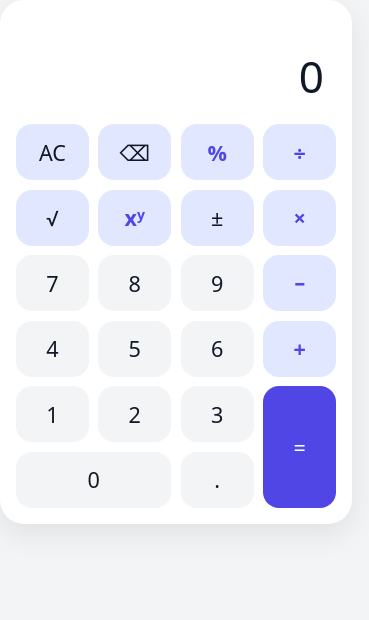
Test: Calculator › explains network failures
The width and height of the screenshot is (369, 620).
Click the button "1" at coordinates (52, 414), box 16,386 -> 89,442
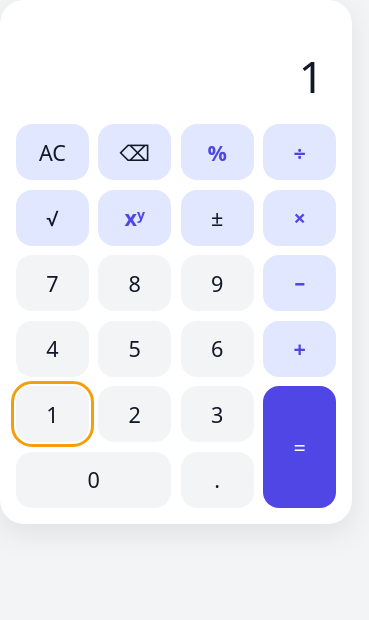
Click the button named "add" at coordinates (300, 349), box 263,321 -> 336,377
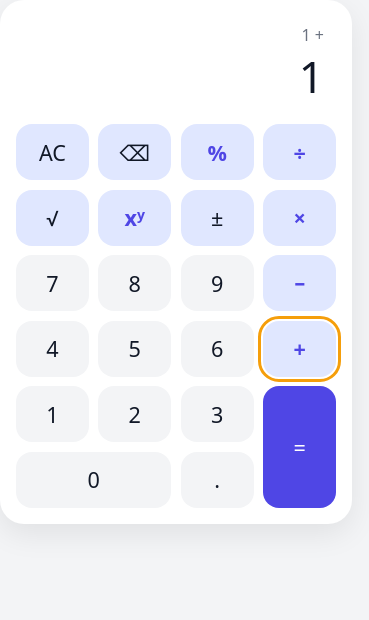
Click the button "1" at coordinates (52, 414), box 16,386 -> 89,442
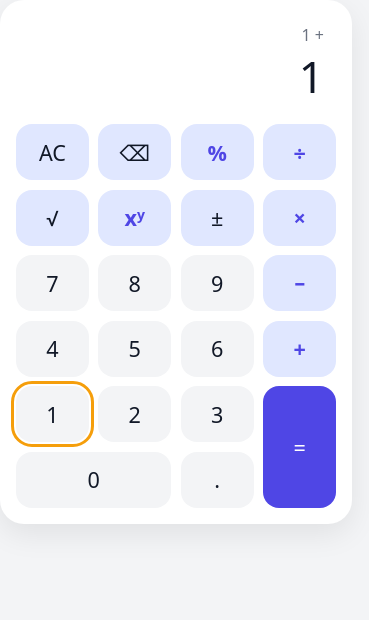
Click the button named "equals" at coordinates (300, 447), box 263,386 -> 336,508
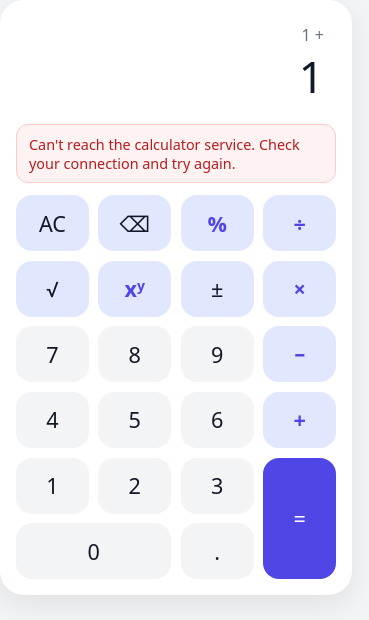
Expected: the message shows "Can't reach the calculator service", 29,135 -> 300,173
